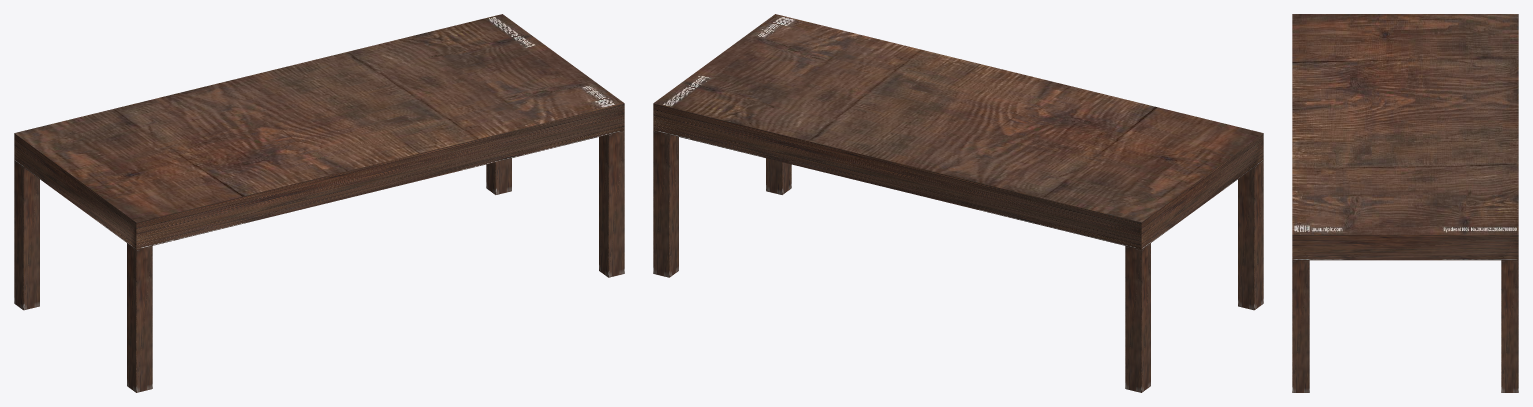
File: table.obj
3 views of the same model, side by side, from view 1: azimuth 30°, elevation 25°; view 2: azimuth 150°, elevation 25°; view 3: azimuth 270°, elevation 25° (orthographic). The views are drawn at different scales.
Parts seen in each view (by area): view 1: table; view 2: table; view 3: table.
Boxes of the visible parts, x1,y1,x2,y2 form: table: (14, 14, 624, 392); table: (653, 14, 1263, 392); table: (1292, 14, 1518, 392).
Size of the model in its own units: 1500 by 500 by 650.
